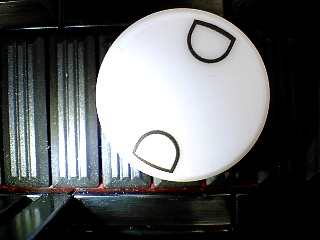MIPO2: (95, 8, 270, 183)
